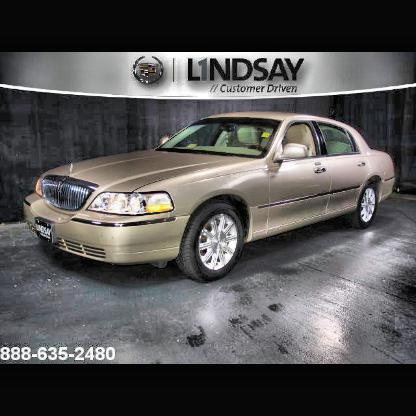Lincoln Town Car Sedan 2011: (21, 112, 399, 287)
